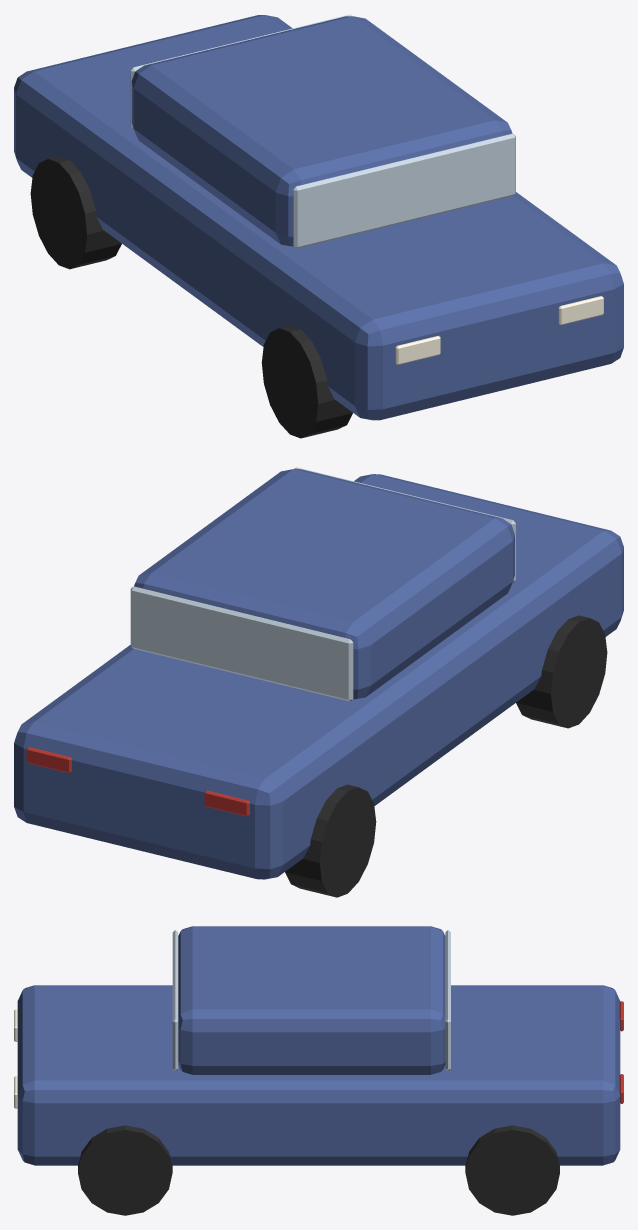
File: car.fbx
3 views of the same model, one above another, from view 1: azimuth 30°, elevation 25°; view 2: azimuth 150°, elevation 25°; view 3: azimuth 270°, elevation 25° (orthographic). The views are drawn at different scales.
Visible parts, largest first — view 1: Car; view 2: Car; view 3: Car.
Boxes of the visible parts, x1,y1,x2,y2 form: Car: (14, 14, 623, 438); Car: (14, 467, 623, 897); Car: (14, 926, 623, 1215).
Bounding box in the file's own units: 1.95 × 1.45 × 4.25.
